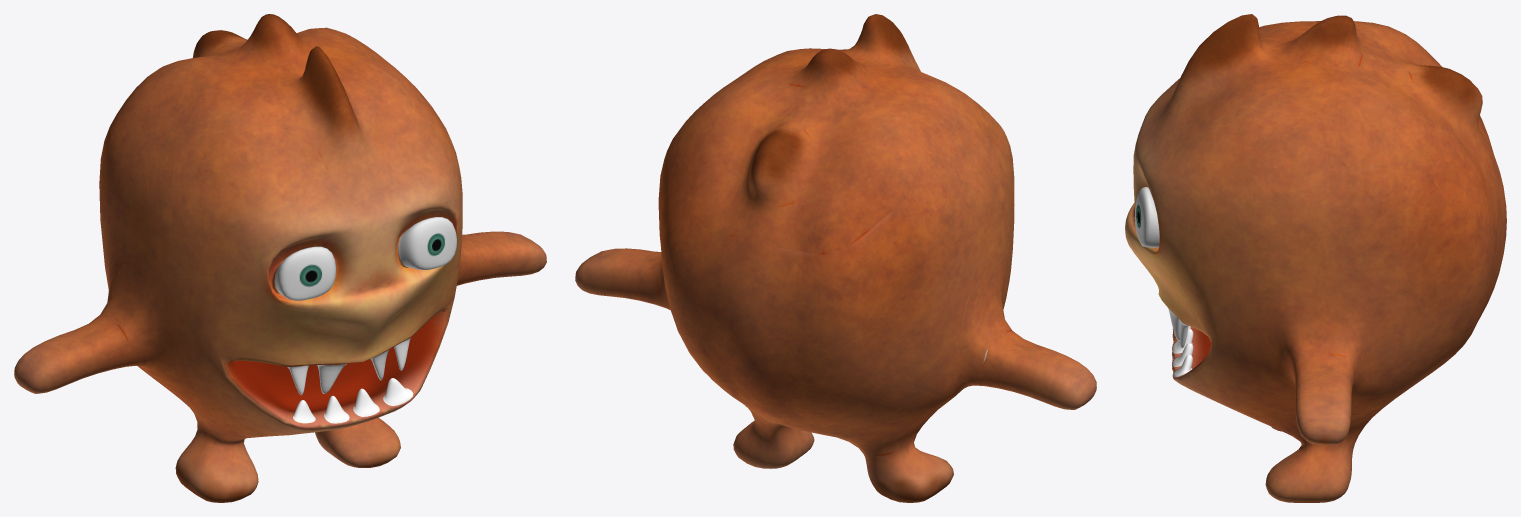
The model's file is monster.dae.
The picture shows the model from 3 angles, left to right: view 1: azimuth 30°, elevation 25°; view 2: azimuth 150°, elevation 25°; view 3: azimuth 270°, elevation 25°; orthographic projection. The views are drawn at different scales.
Parts seen in each view (by area): view 1: pCube5; view 2: pCube5; view 3: pCube5.
Part boxes in pixels (left/top/right/bottom): pCube5: left=14, top=14, right=546, bottom=502; pCube5: left=575, top=14, right=1096, bottom=502; pCube5: left=1125, top=14, right=1506, bottom=502.
Bounding box in the file's own units: 7.24 × 5.98 × 4.63.
